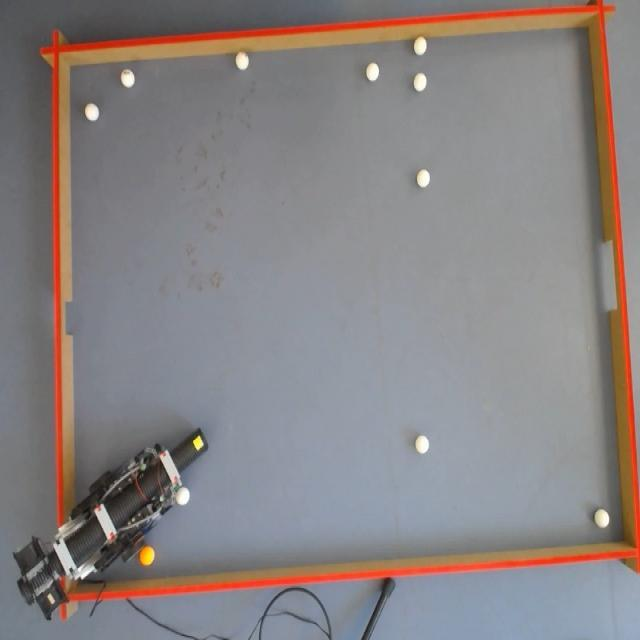orange-golf-balls: (140, 546, 155, 566)
robot: (13, 428, 209, 621)
robot-front: (172, 429, 208, 472)
white-golf-balls: (595, 509, 610, 528), (366, 62, 380, 82), (121, 69, 135, 88), (176, 487, 190, 506), (85, 104, 99, 122), (416, 436, 430, 454), (414, 72, 427, 91), (236, 52, 249, 70), (414, 38, 427, 56), (418, 169, 430, 188)
